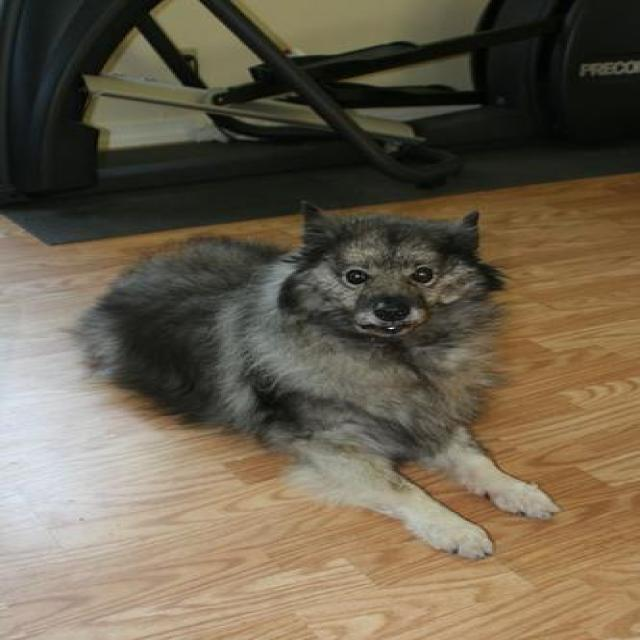dog: (87, 151, 612, 571)
